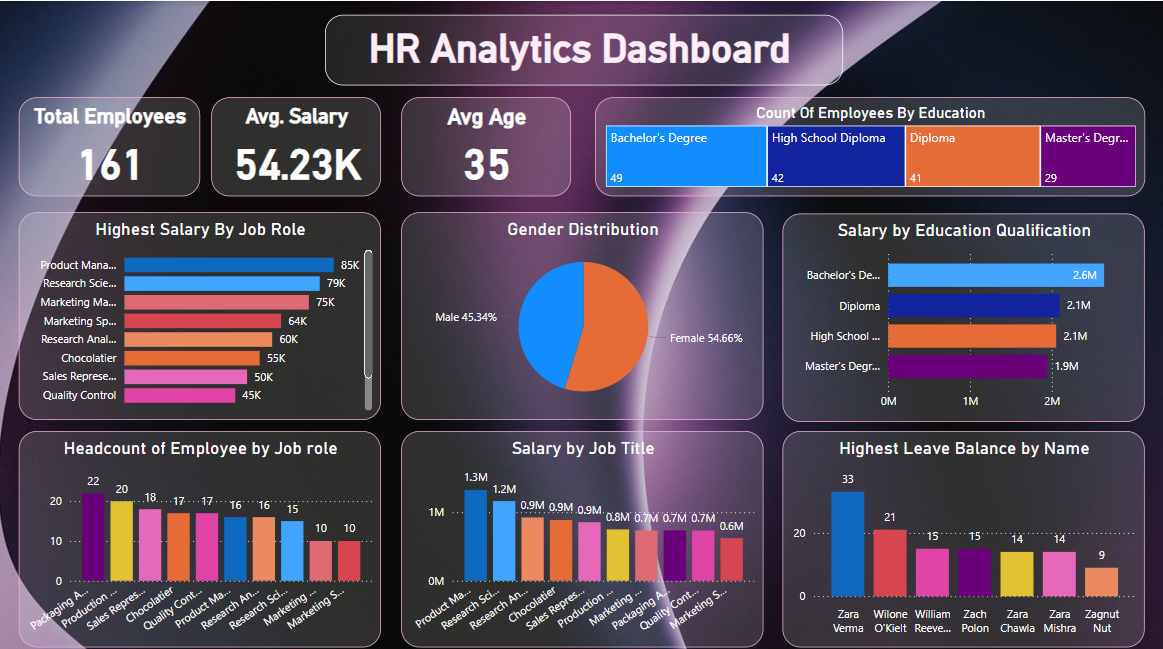

What the dashboard file says about the page in this screenshot:
{"tool":"powerbi","page":{"name":"Page 1","canvas":[1280,720],"ordinal":0},"visuals":[{"type":"card","title":"Total Employees","fields":{"Values":["data.Emp ID"]},"box":[20.6,105.7,199,108.4],"z":0},{"type":"card","title":"Avg. Salary","fields":{"Values":["data.Salary"]},"box":[231.9,105.7,186.6,108.4],"z":1000},{"type":"columnChart","title":"Salary by Job Title","fields":{"Category":["data.Job Title"],"Y":["data.Salary"]},"box":[440.5,472,397.9,237.4],"z":2000},{"type":"barChart","title":"Salary by Education Qualification","fields":{"Category":["data.Education Qualification"],"Y":["data.Salary"]},"box":[859,233.3,397.9,229.2],"z":3000},{"type":"columnChart","title":"Highest Leave Balance by Name","fields":{"Y":["data.Leave Balance"],"Category":["data.Name"]},"box":[859,472,397.9,237.4],"z":4000},{"type":"columnChart","title":"Headcount of Employee by Job role","fields":{"Category":["data.Job Title"],"Y":["data.Emp ID"]},"box":[20.6,472,397.9,237.4],"z":5000},{"type":"pieChart","title":"Gender Distribution","fields":{"Y":["data.Emp ID"],"Category":["data.Gender"]},"box":[440.5,231.9,397.9,227.8],"z":6000},{"type":"barChart","title":"Highest Salary By Job Role","fields":{"Category":["data.Job Title"],"Y":["data.Highest Salary"]},"box":[20.6,231.9,397.9,227.8],"z":7000},{"type":"treemap","title":"Count Of Employees By Education","fields":{"Group":["data.Education Qualification"],"Values":["data.Emp ID"]},"box":[653.2,105.7,603.8,108.4],"z":8000},{"type":"card","title":"Avg Age","fields":{"Values":["data.Age"]},"box":[440.5,105.7,186.6,108.4],"z":9000},{"type":"textbox","box":[356.2,15,568.8,77.5],"z":10000}]}

Visuals, with their boxes in screenshot pixels (x1, y1, x2, y2), scaled from the page's 1280x720 canvas onto the 1163x649 screenshot:
"Total Employees" card: [19, 95, 200, 193]
"Avg. Salary" card: [211, 95, 380, 193]
"Salary by Job Title" columnChart: [400, 425, 762, 639]
"Salary by Education Qualification" barChart: [780, 210, 1142, 417]
"Highest Leave Balance by Name" columnChart: [780, 425, 1142, 639]
"Headcount of Employee by Job role" columnChart: [19, 425, 380, 639]
"Gender Distribution" pieChart: [400, 209, 762, 414]
"Highest Salary By Job Role" barChart: [19, 209, 380, 414]
"Count Of Employees By Education" treemap: [593, 95, 1142, 193]
"Avg Age" card: [400, 95, 570, 193]
textbox: [324, 14, 840, 83]
